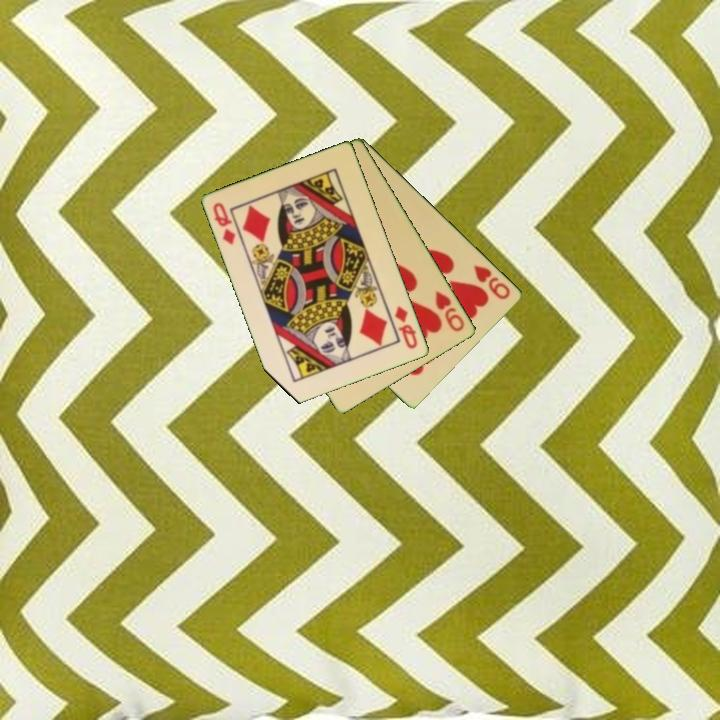9h: (470, 261, 514, 302), (432, 287, 468, 335)
Qd: (392, 302, 421, 352), (210, 199, 239, 248)
